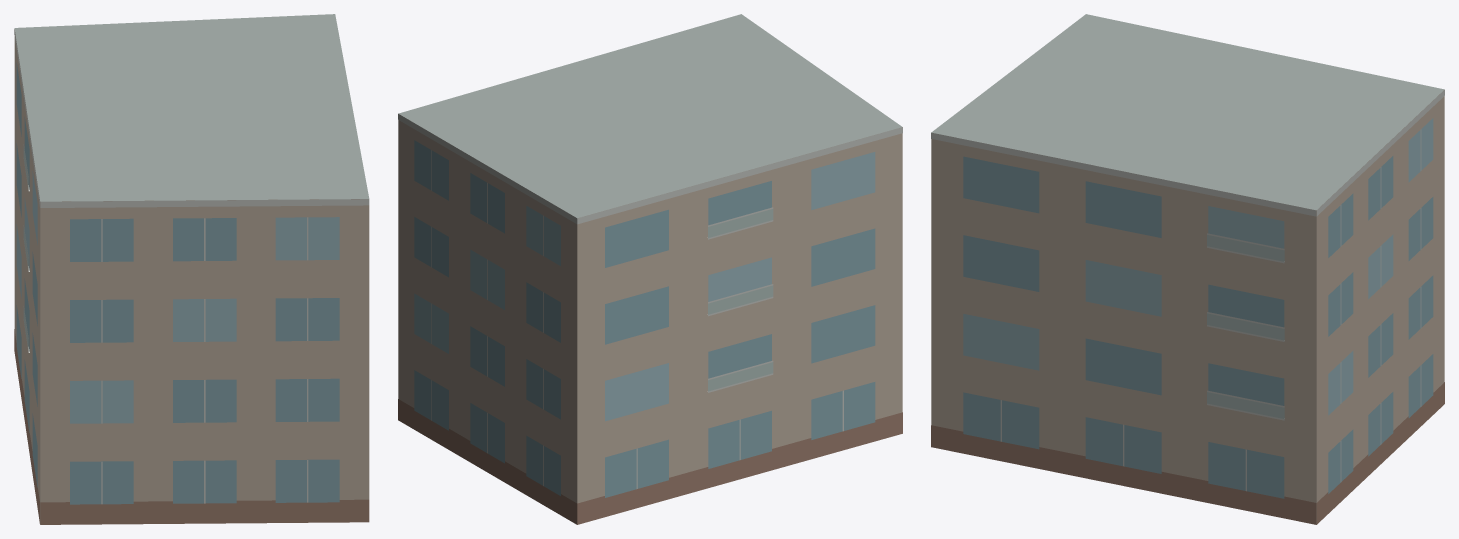
The model's file is residential-0c5992c4-f7f2-46fd-b904-d43f039b1aa9.glb.
3 views of the same model, side by side, from view 1: azimuth 30°, elevation 25°; view 2: azimuth 150°, elevation 25°; view 3: azimuth 270°, elevation 25° (orthographic). The views are drawn at different scales.
Visible parts, largest first — view 1: residential-0c5992c4-f7f2-46fd-b904-d43f039b1aa9.tmp; view 2: residential-0c5992c4-f7f2-46fd-b904-d43f039b1aa9.tmp; view 3: residential-0c5992c4-f7f2-46fd-b904-d43f039b1aa9.tmp.
Boxes of the visible parts, x1,y1,x2,y2 form: residential-0c5992c4-f7f2-46fd-b904-d43f039b1aa9.tmp: [14, 14, 369, 524]; residential-0c5992c4-f7f2-46fd-b904-d43f039b1aa9.tmp: [398, 14, 902, 524]; residential-0c5992c4-f7f2-46fd-b904-d43f039b1aa9.tmp: [931, 14, 1444, 524].
Size of the model in its own units: 16.34 by 12.2 by 18.07.
